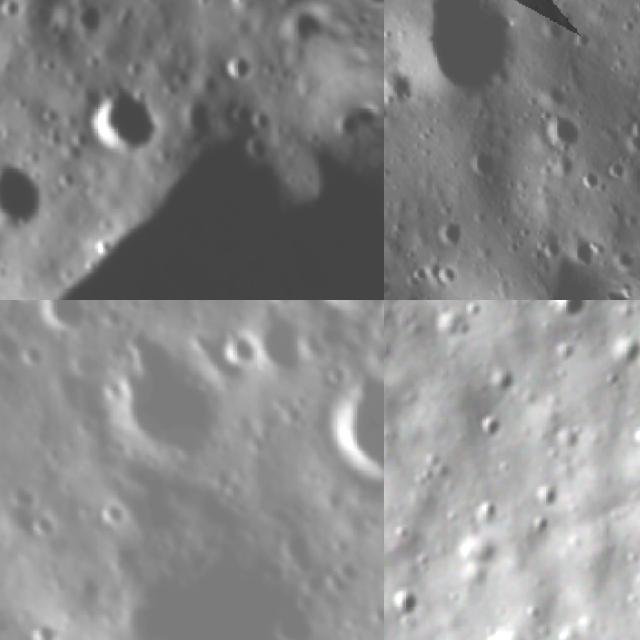crater: (0, 82, 384, 300), (49, 515, 340, 640), (82, 326, 252, 495), (384, 0, 549, 126), (302, 360, 384, 517), (237, 304, 331, 398), (81, 75, 173, 167), (0, 142, 65, 253), (282, 300, 384, 352), (263, 514, 332, 584), (258, 586, 341, 640), (532, 99, 600, 164), (206, 321, 272, 386), (18, 300, 102, 349), (14, 502, 76, 564), (83, 490, 143, 550), (456, 140, 511, 198), (7, 333, 59, 385), (566, 227, 614, 276), (1, 477, 49, 524), (429, 211, 475, 256), (384, 66, 424, 117), (608, 108, 640, 169), (327, 103, 367, 149), (219, 47, 261, 90), (430, 260, 470, 300), (16, 609, 67, 640), (385, 590, 427, 626), (546, 300, 589, 327), (479, 624, 539, 640), (152, 300, 192, 313)
